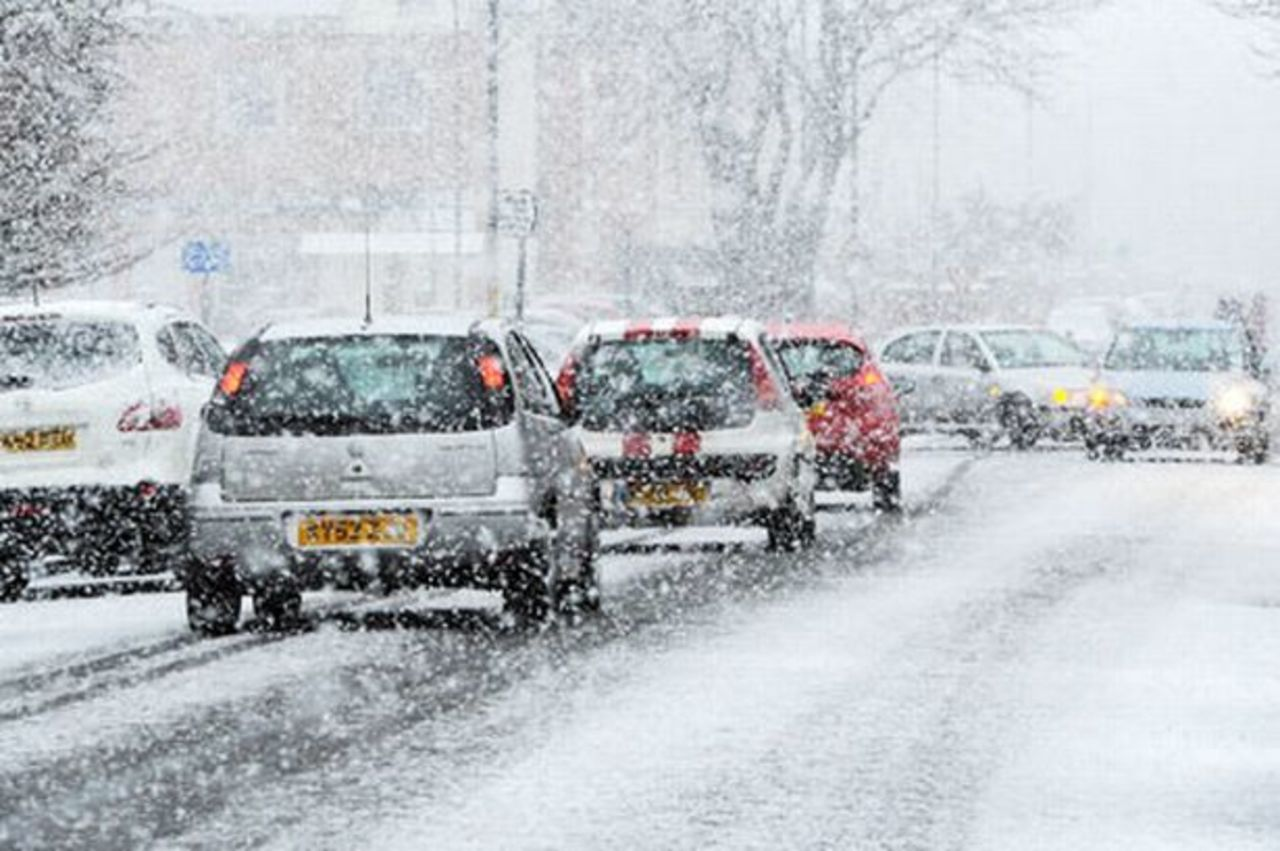car: (186, 316, 600, 636), (2, 292, 226, 588), (551, 324, 819, 556), (756, 328, 908, 517), (871, 321, 1116, 433), (1095, 320, 1268, 458), (1052, 294, 1140, 345)
